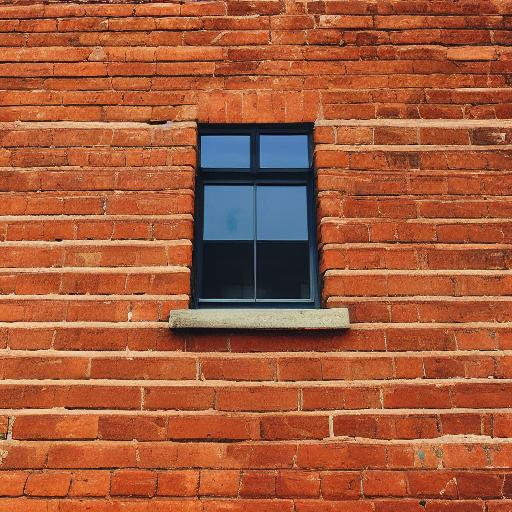Window: (169, 89, 351, 334)
